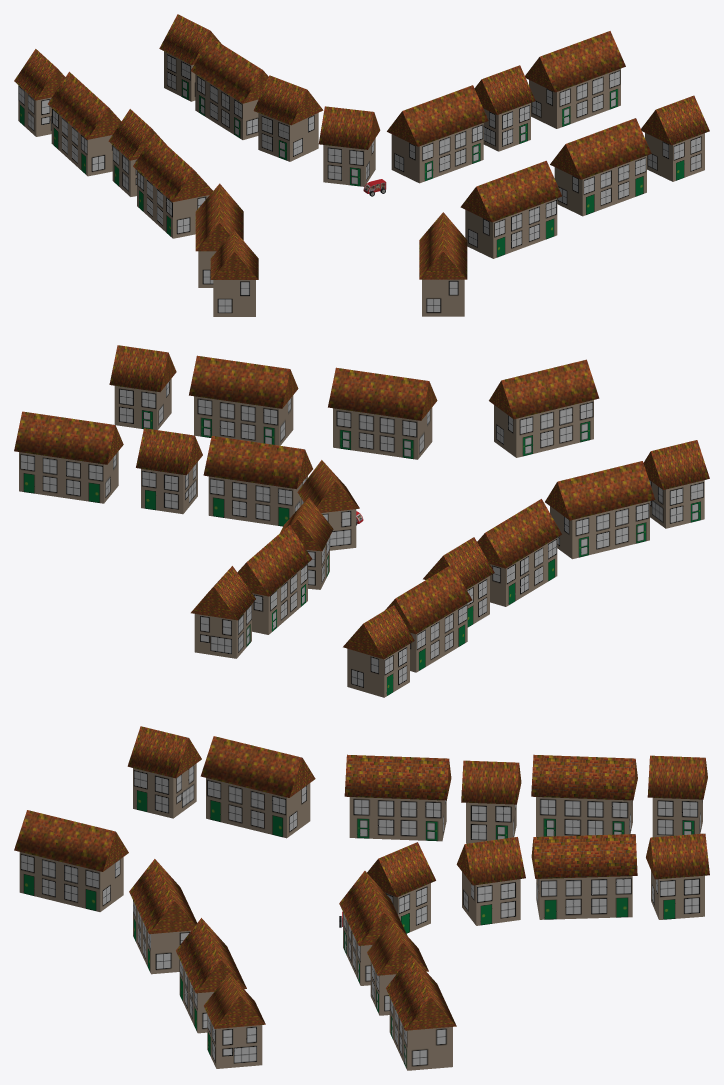
The picture shows the model from 3 angles, top to bottom: view 1: azimuth 30°, elevation 25°; view 2: azimuth 150°, elevation 25°; view 3: azimuth 270°, elevation 25°; orthographic projection. The views are drawn at different scales.
Parts seen in each view (by area): view 1: largeBox_merged (×9), smallBox_merged (×8); view 2: largeBox_merged (×9), smallBox_merged (×8); view 3: largeBox_merged (×9), smallBox_merged (×8).
Boxes of the visible parts, x1,y1,x2,y2 form: largeBox_merged (×9): (48, 31, 651, 316); smallBox_merged (×8): (14, 14, 709, 316); largeBox_merged (×9): (14, 355, 655, 672); smallBox_merged (×8): (109, 345, 709, 697); largeBox_merged (×9): (14, 736, 637, 1070); smallBox_merged (×8): (127, 726, 709, 1068).
Size of what is drawn, in the model's own units: 14.37 by 1.73 by 14.92.
36 materials, 36 textured.
